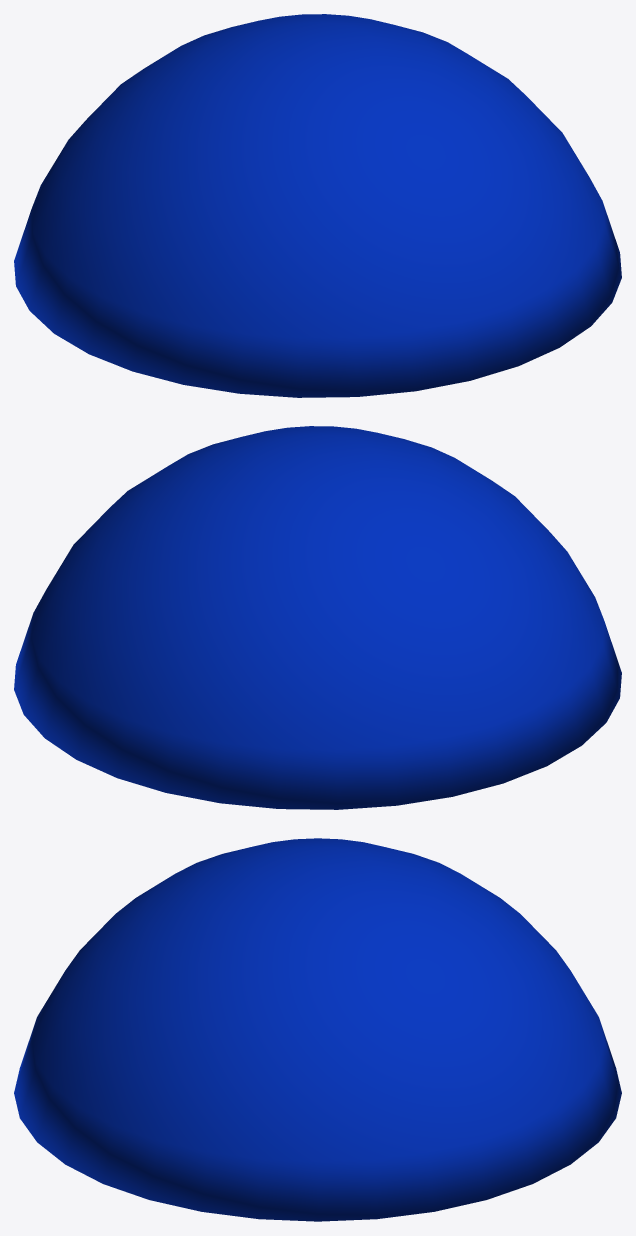
File: santorini dome.glb
The picture shows the model from 3 angles, top to bottom: view 1: azimuth 30°, elevation 25°; view 2: azimuth 150°, elevation 25°; view 3: azimuth 270°, elevation 25°; orthographic projection.
Parts seen in each view (by area): view 1: Sphere; view 2: Sphere; view 3: Sphere.
Boxes of the visible parts, x1=… form: Sphere: x1=14, y1=14, x2=621, y2=397; Sphere: x1=14, y1=426, x2=621, y2=809; Sphere: x1=14, y1=838, x2=621, y2=1221.
Size of the model in its own units: 8.82 by 3.62 by 8.82.
